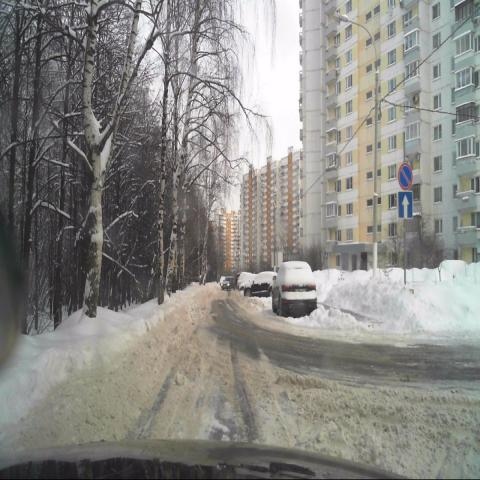3_28: (397, 160, 413, 190)
